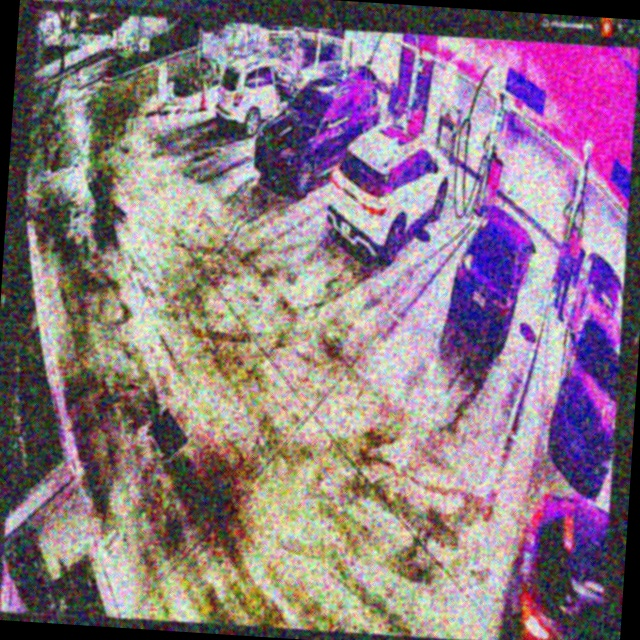Car: (327, 117, 454, 261), (252, 67, 384, 194), (449, 205, 537, 348)
